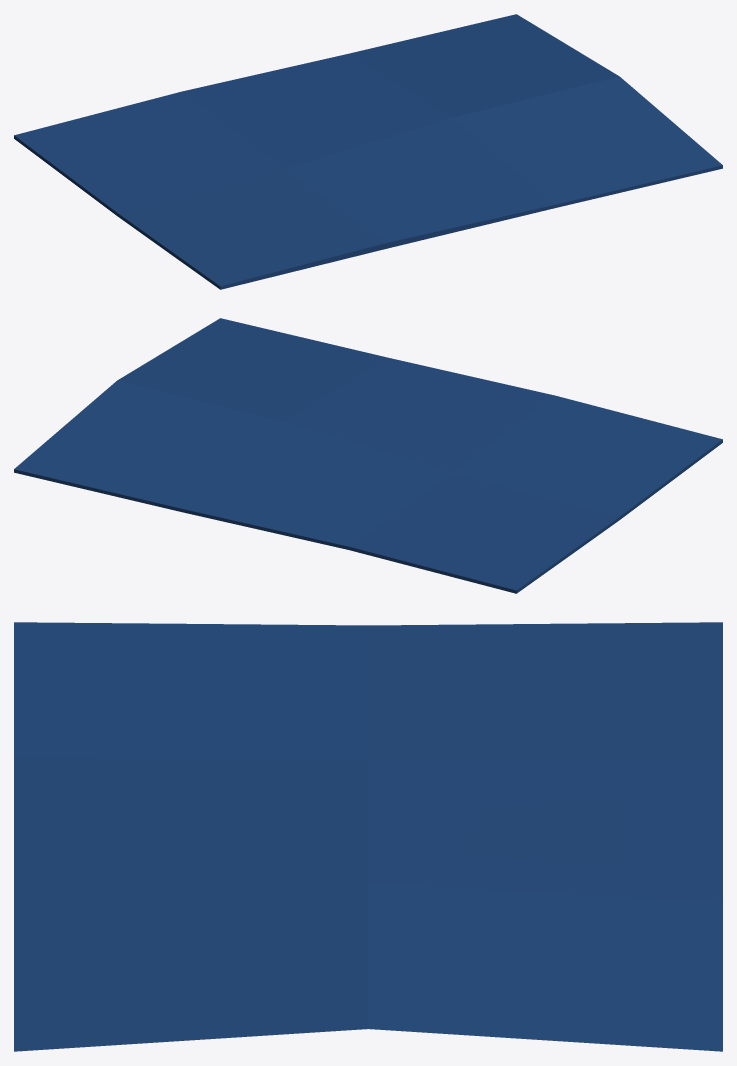
The picture shows the model from 3 angles, top to bottom: view 1: azimuth 30°, elevation 25°; view 2: azimuth 150°, elevation 25°; view 3: azimuth 270°, elevation 25°; orthographic projection. The views are drawn at different scales.
Parts seen in each view (by area): view 1: G-9; view 2: G-9; view 3: G-9.
Part boxes in pixels (<box>): G-9: <box>14,14,722,289</box>; G-9: <box>14,318,722,593</box>; G-9: <box>14,622,722,1051</box>.
Size of the model in its own units: 168 by 5.44 by 120.
